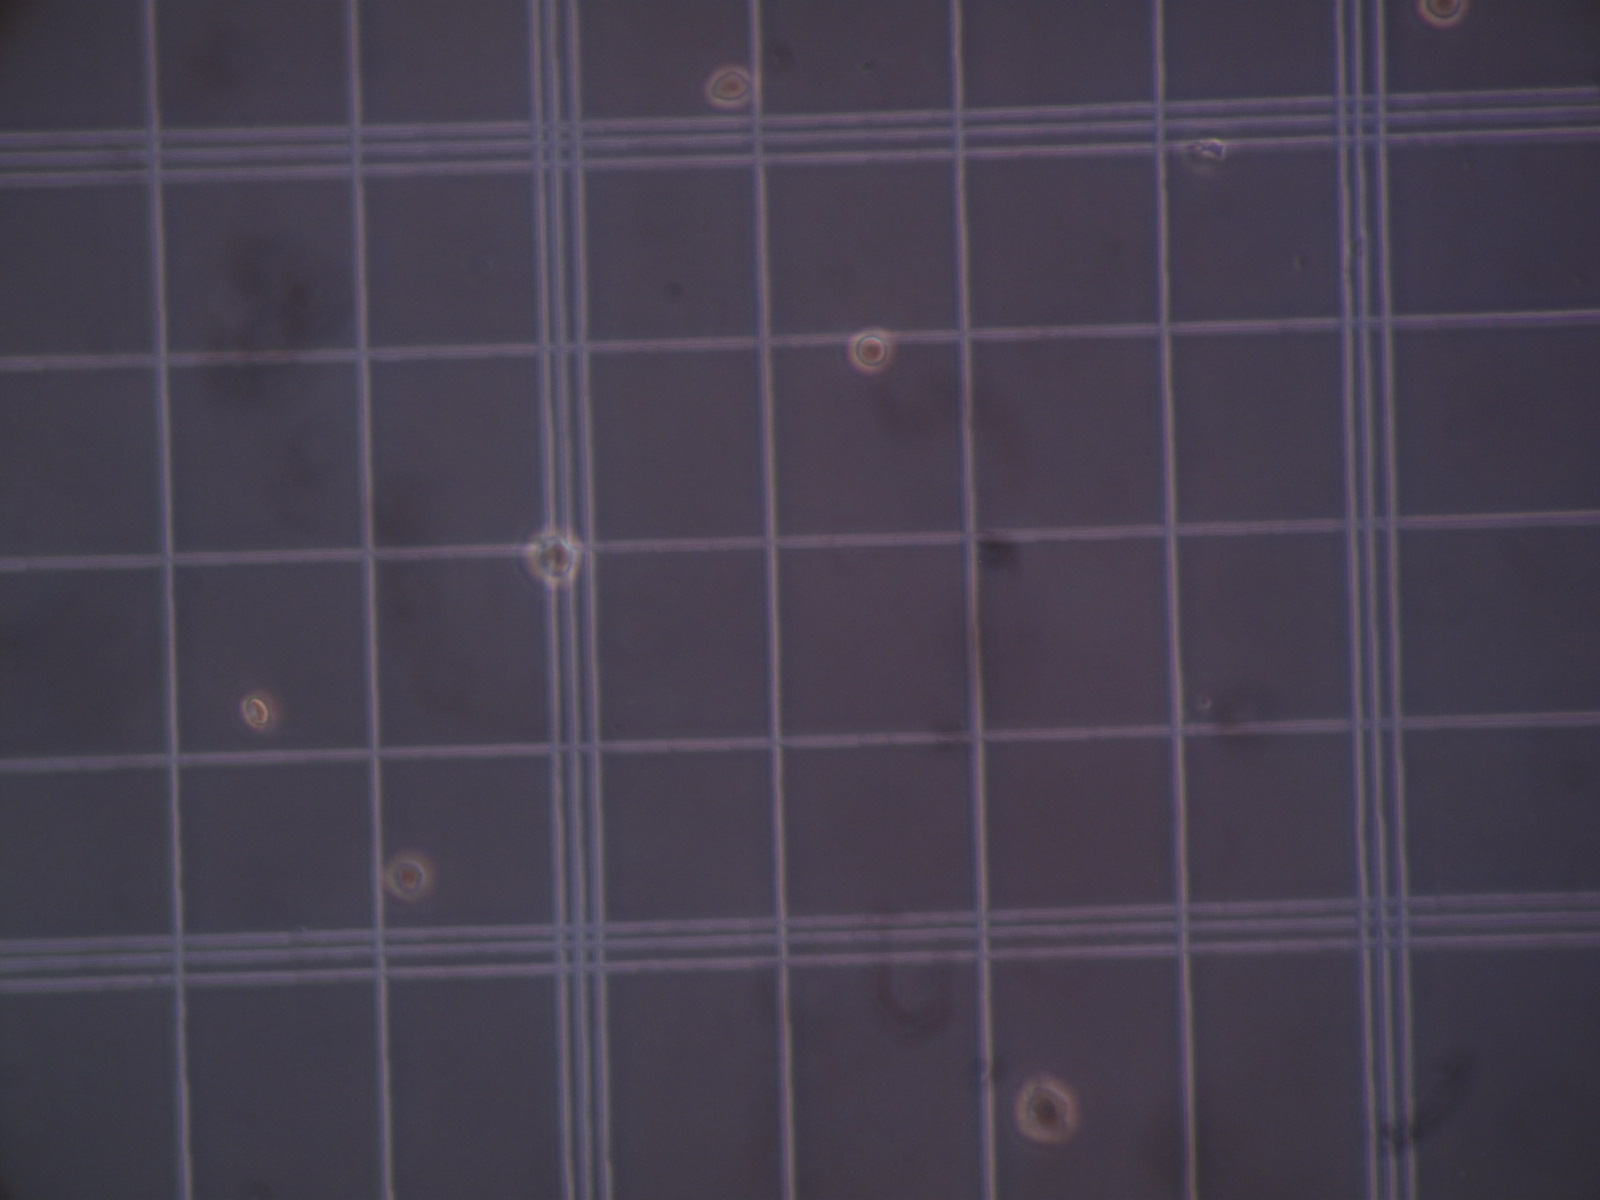hemo: (519, 522, 582, 592), (1015, 1075, 1076, 1147), (383, 847, 433, 903), (703, 62, 755, 108), (847, 325, 892, 376), (242, 688, 276, 730), (1417, 1, 1468, 29)
